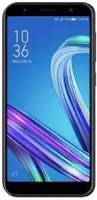asus: (1, 3, 97, 198)
